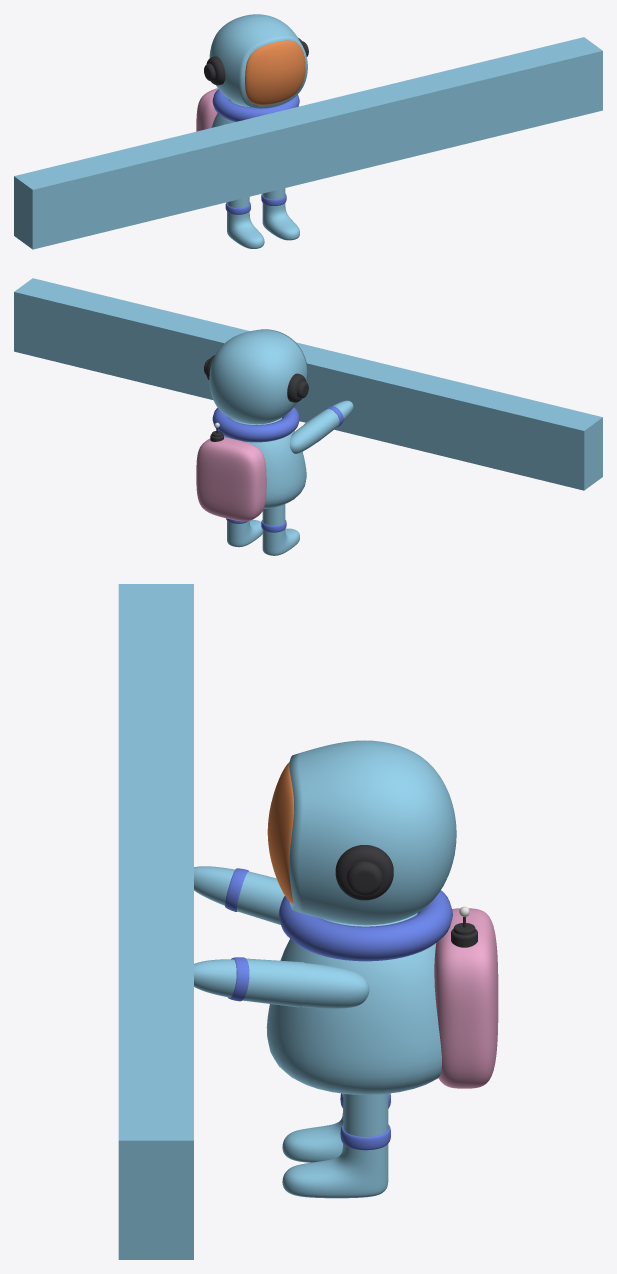
File: PlayerOne.gltf
3 renders of one model, top to bottom at view 1: azimuth 30°, elevation 25°; view 2: azimuth 150°, elevation 25°; view 3: azimuth 270°, elevation 25°, orthographic. The views are drawn at different scales.
Visible parts, largest first — view 1: Paddle, Cube, Visor, Cube.003, Rings2, Backpack, Cylinder.001, Rings1; view 2: Paddle, Cube, Backpack, Suit, Cube.003, Rings2, Cube.005, Cylinder.001; view 3: Paddle, Cube, Suit, Backpack, Cube.005, Cube.003, Rings2, Cylinder.001, Visor, Cube.006.
Part boxes in pixels (box(x1,y1,x2,y2)): Paddle: box(14, 37, 602, 249); Cube: box(209, 14, 307, 108); Visor: box(245, 40, 305, 105); Cube.003: box(227, 188, 299, 248); Rings2: box(212, 89, 299, 121); Backpack: box(196, 88, 217, 131); Cylinder.001: box(204, 38, 308, 85); Rings1: box(225, 193, 286, 214); Paddle: box(14, 278, 602, 490); Cube: box(209, 329, 307, 424); Backpack: box(196, 437, 266, 521); Suit: box(224, 418, 306, 508); Cube.003: box(227, 504, 299, 555); Rings2: box(212, 407, 299, 442); Cube.005: box(289, 400, 353, 453); Cylinder.001: box(204, 355, 308, 402); Paddle: box(118, 584, 193, 1259); Cube: box(289, 740, 456, 925); Suit: box(266, 913, 441, 1094); Backpack: box(434, 908, 498, 1088); Cube.005: box(194, 866, 369, 1008); Cube.003: box(282, 1093, 388, 1198); Rings2: box(278, 890, 452, 961); Cylinder.001: box(335, 845, 393, 900); Visor: box(267, 762, 293, 903); Cube.006: box(225, 868, 249, 1001).
Bounding box in the file's own units: 7 × 2.48 × 2.02.
